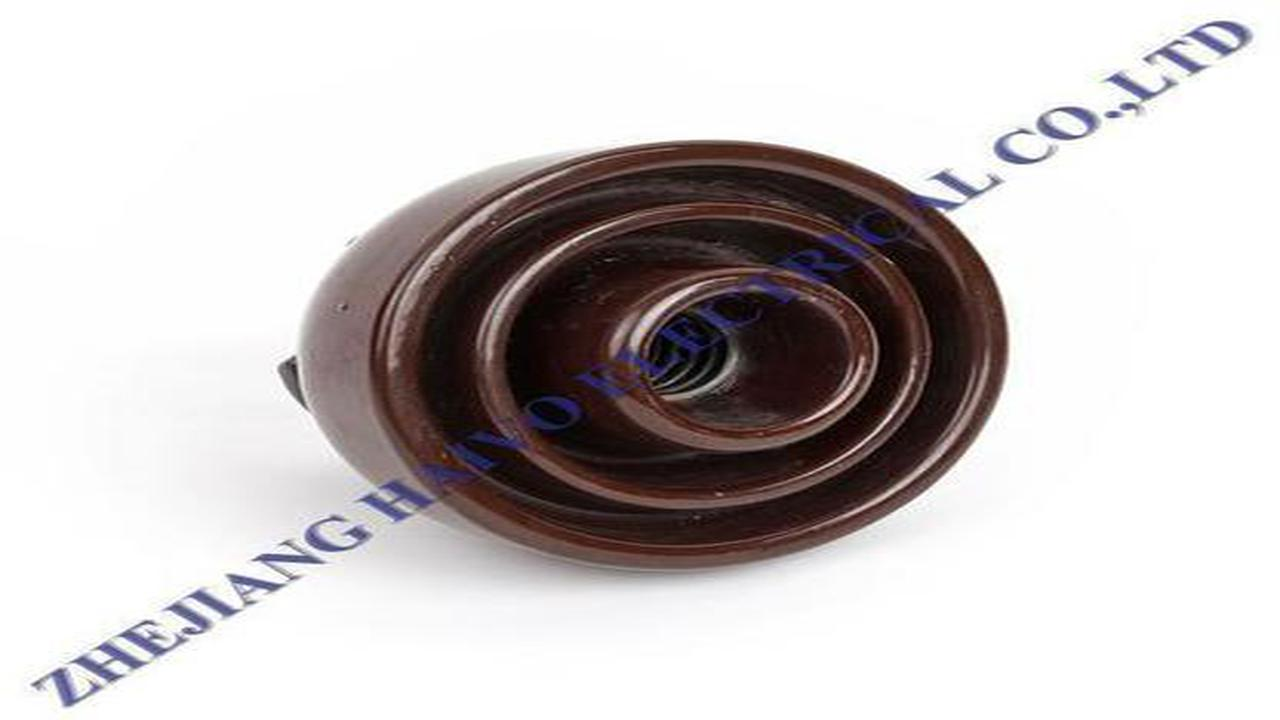insulator_pin: (271, 118, 1025, 587)
